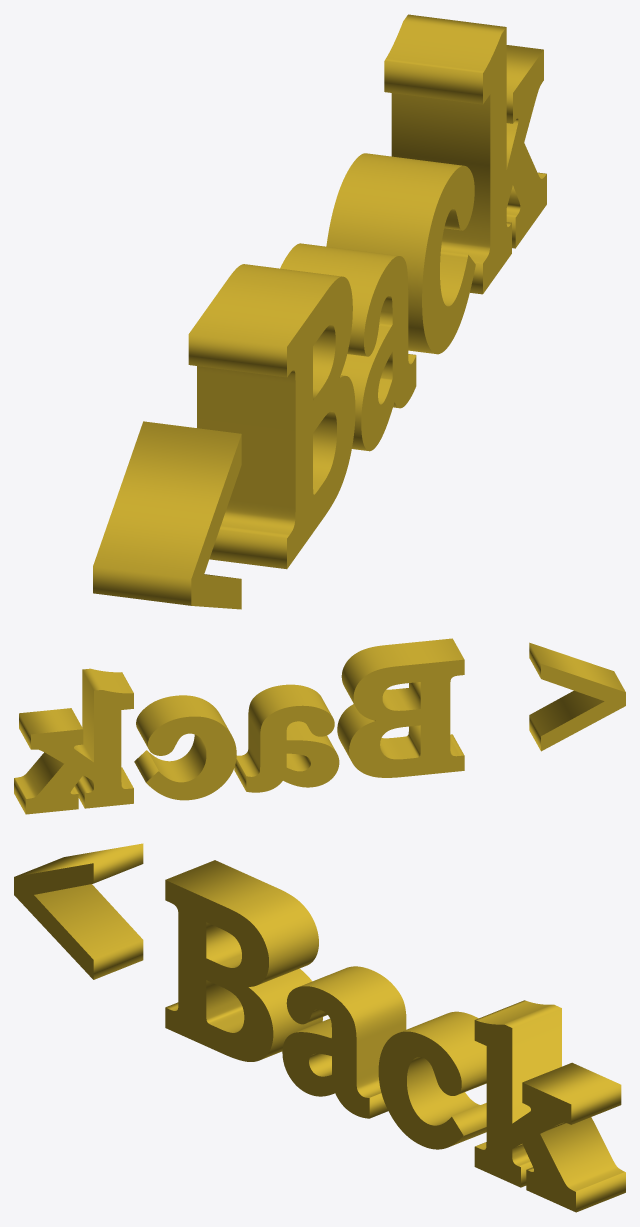
File: board_back.glb
3 views of the same model, one above another, from view 1: azimuth 30°, elevation 25°; view 2: azimuth 150°, elevation 25°; view 3: azimuth 270°, elevation 25° (orthographic). The views are drawn at different scales.
Parts seen in each view (by area): view 1: Text.013; view 2: Text.013; view 3: Text.013.
Boxes of the visible parts, x1,y1,x2,y2 form: Text.013: [93, 14, 546, 609]; Text.013: [14, 638, 625, 814]; Text.013: [14, 843, 625, 1212].
Size of the model in its own units: 0.3493 by 0.0947 by 0.3316.
